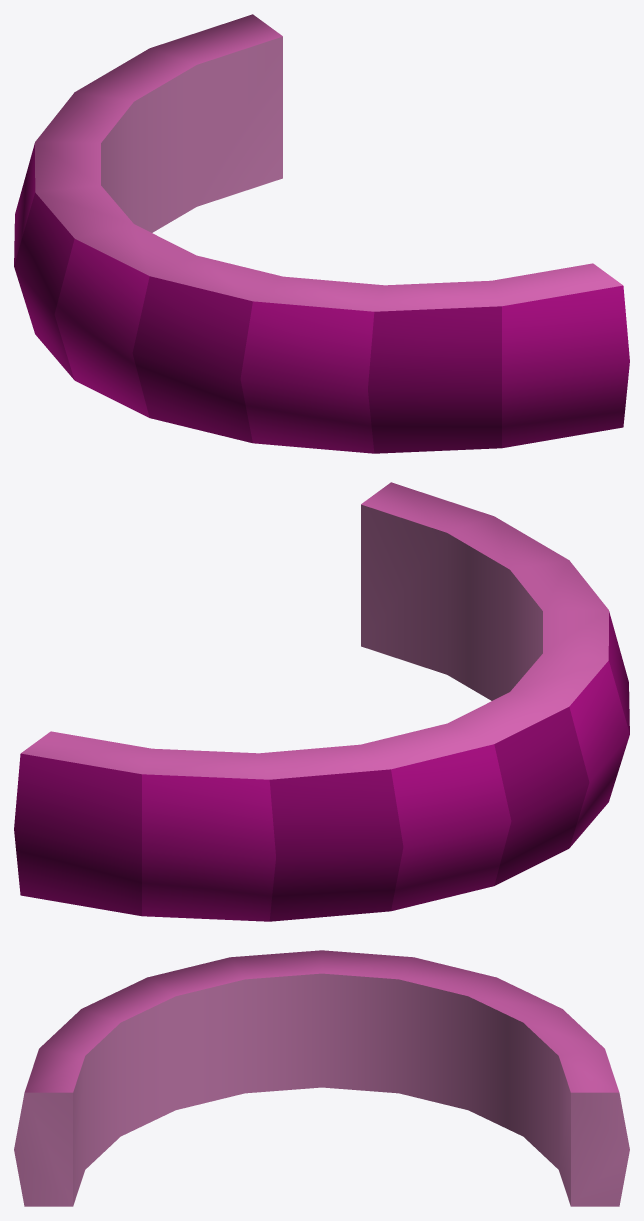
File: Onion_red_half_Hotdog.fbx
The picture shows the model from 3 angles, top to bottom: view 1: azimuth 30°, elevation 25°; view 2: azimuth 150°, elevation 25°; view 3: azimuth 270°, elevation 25°; orthographic projection. The views are drawn at different scales.
Parts seen in each view (by area): view 1: Onion_red_half_Hotdog; view 2: Onion_red_half_Hotdog; view 3: Onion_red_half_Hotdog.
Part boxes in pixels (x1,y1,x2,y2): Onion_red_half_Hotdog: (14,14,629,453); Onion_red_half_Hotdog: (14,482,629,921); Onion_red_half_Hotdog: (14,950,629,1206).
Bounding box in the file's own units: 33.42 × 57.88 × 11.82.
